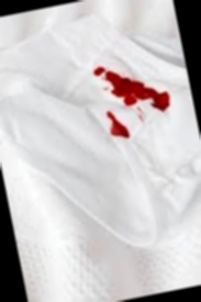blood: (91, 52, 177, 144)
